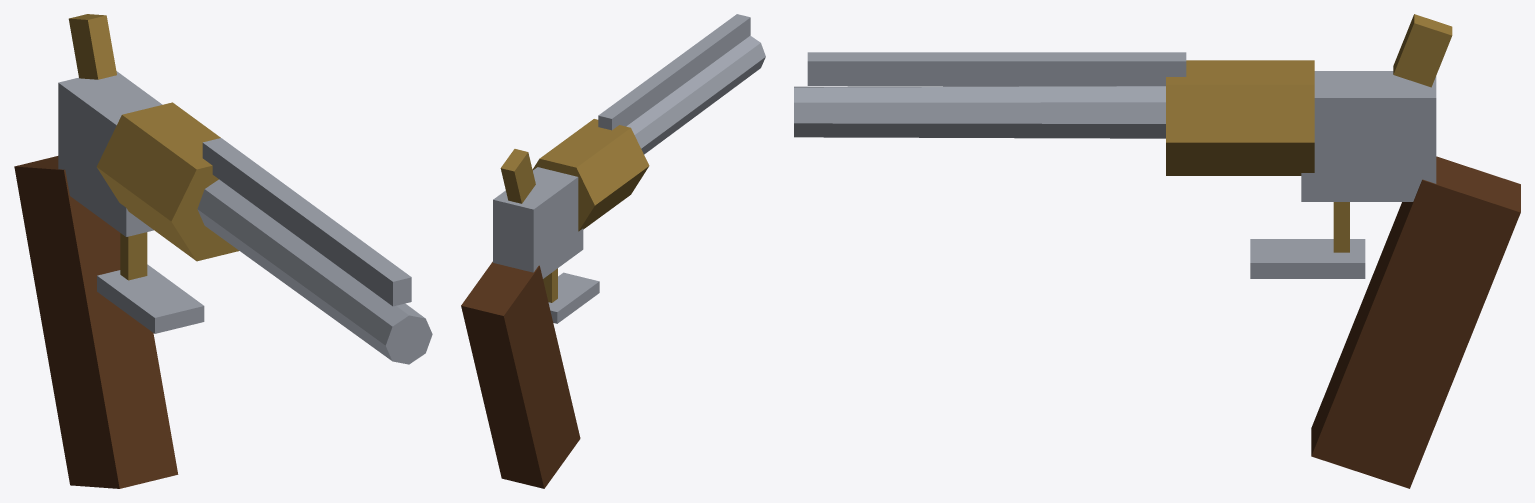
File: revolver.obj
3 views of the same model, side by side, from view 1: azimuth 30°, elevation 25°; view 2: azimuth 150°, elevation 25°; view 3: azimuth 270°, elevation 25° (orthographic). The views are drawn at different scales.
Size of the model in its own units: 0.062 by 0.2681 by 0.387.
